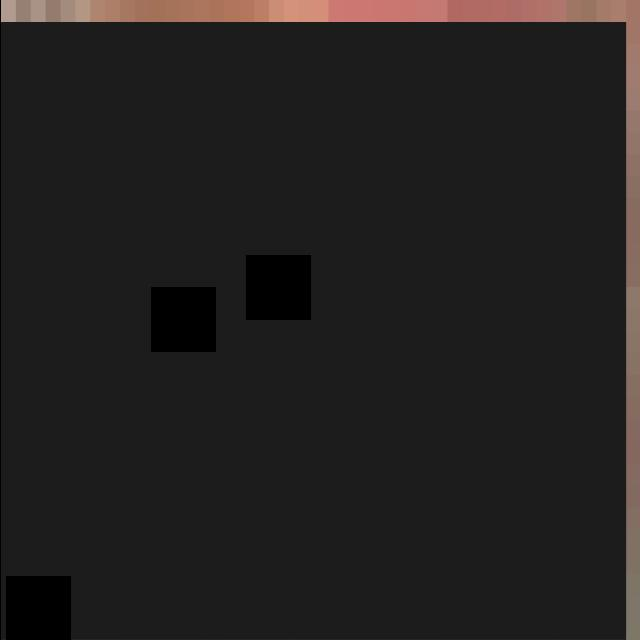fire: (0, 22, 625, 640)
